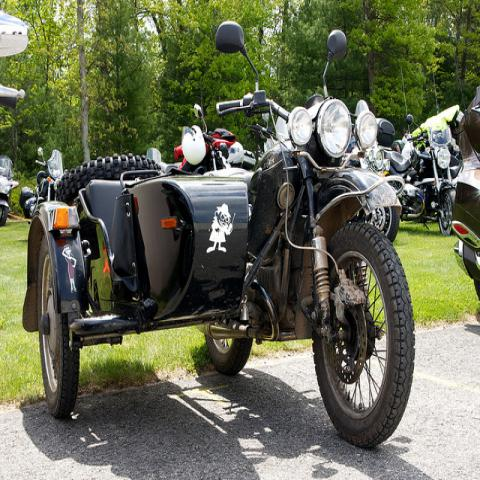motorcycle: (22, 22, 417, 448), (382, 105, 462, 238), (350, 98, 399, 246), (450, 84, 479, 301), (173, 105, 235, 176), (18, 148, 63, 218), (0, 155, 21, 228)
